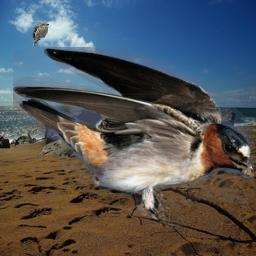Cuckoo: (32, 22, 49, 46)
Swallow: (13, 47, 254, 228)
